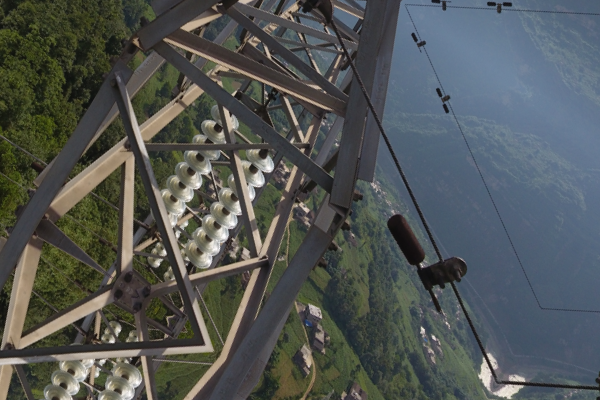damper: (434, 86, 452, 116)
damper_defect: (387, 210, 469, 318), (408, 31, 425, 55)
